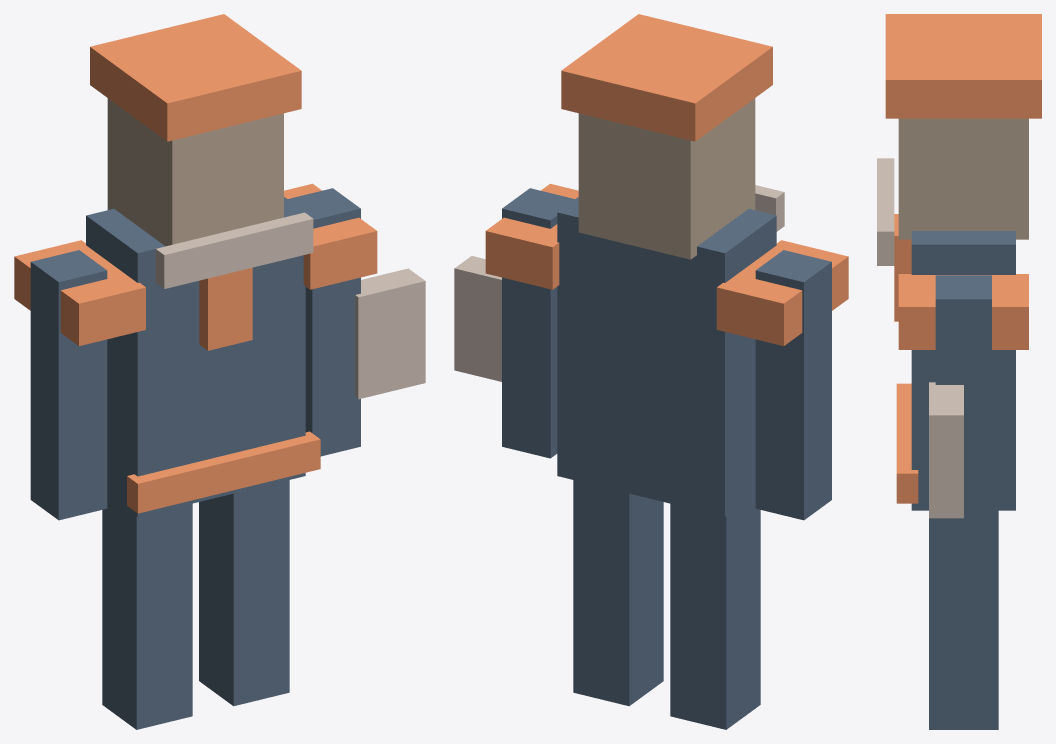
The model's file is 06_kiva_skyharrow_tactician_of_emergency.glb.
3 views of the same model, side by side, from view 1: azimuth 30°, elevation 25°; view 2: azimuth 150°, elevation 25°; view 3: azimuth 270°, elevation 25° (orthographic).
Parts seen in each view (by area): view 1: Kiva Skyharrow, Tactician of Emergency; view 2: Kiva Skyharrow, Tactician of Emergency; view 3: Kiva Skyharrow, Tactician of Emergency.
Boxes of the visible parts, bbox=[...] form: Kiva Skyharrow, Tactician of Emergency: bbox=[14, 14, 425, 729]; Kiva Skyharrow, Tactician of Emergency: bbox=[454, 14, 848, 729]; Kiva Skyharrow, Tactician of Emergency: bbox=[877, 14, 1041, 729].
Size of the model in its own units: 0.912 by 1.53 by 0.3555.
